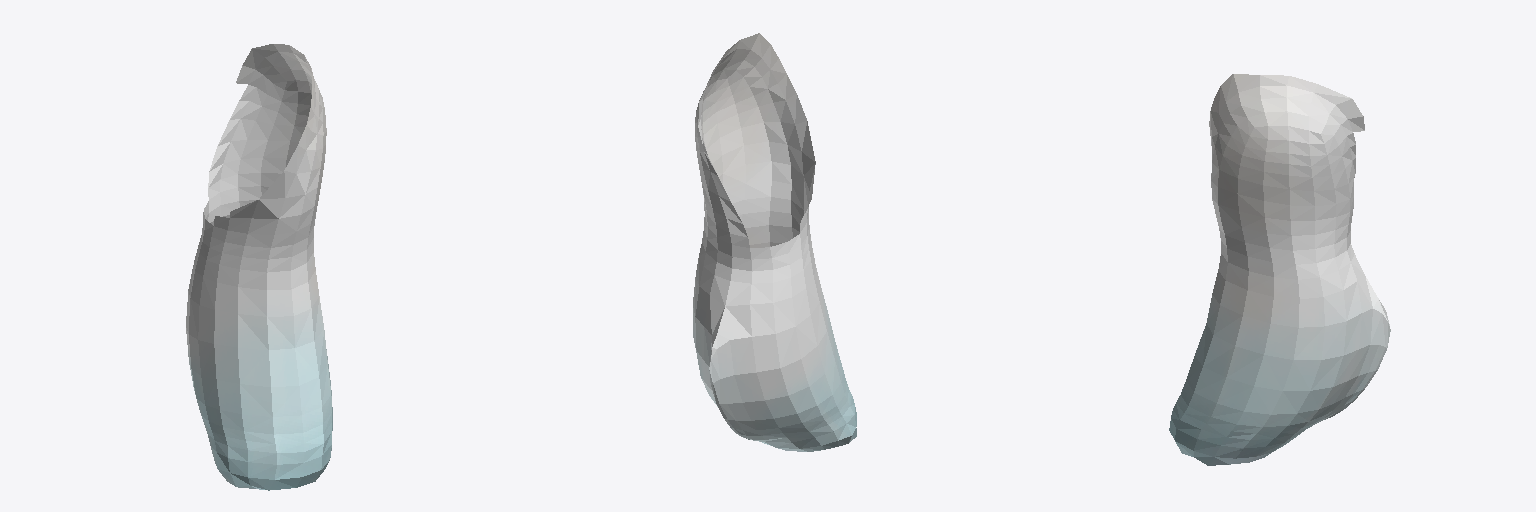
3 renders of one model, left to right at view 1: azimuth 30°, elevation 25°; view 2: azimuth 150°, elevation 25°; view 3: azimuth 270°, elevation 25°, orthographic.
Visible parts, largest first — view 1: Pizq001; view 2: Pizq001; view 3: Pizq001.
Part boxes in pixels (x1,y1,x2,y2): Pizq001: (186, 44, 332, 490); Pizq001: (693, 33, 856, 451); Pizq001: (1169, 74, 1390, 465).
Size of the model in its own units: 0.0576 by 0.179 by 0.0902.
Materials: 1 (1 with a texture image).